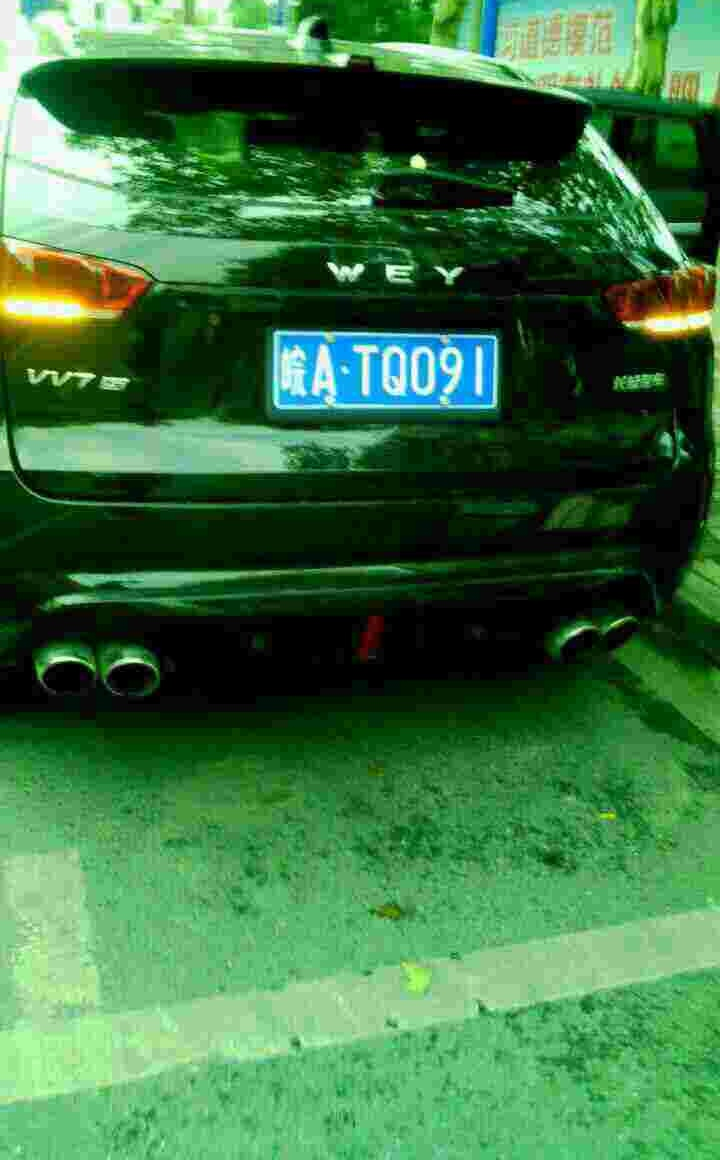license_plate: (287, 332, 501, 409)
